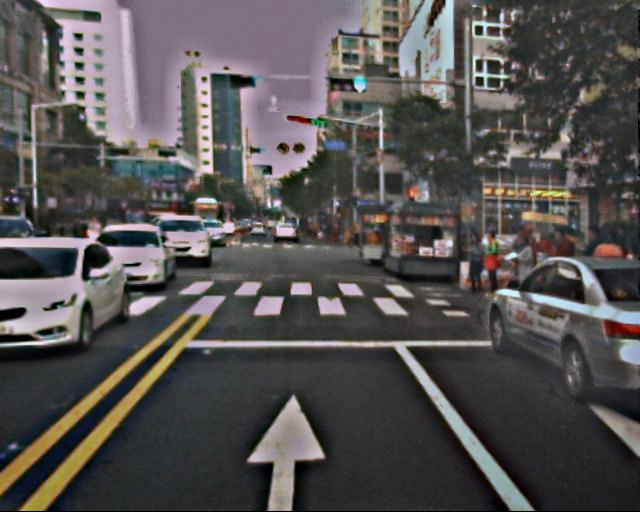person: (573, 226, 611, 318), (545, 226, 582, 317), (503, 239, 544, 320), (460, 231, 488, 300), (480, 230, 508, 299)
